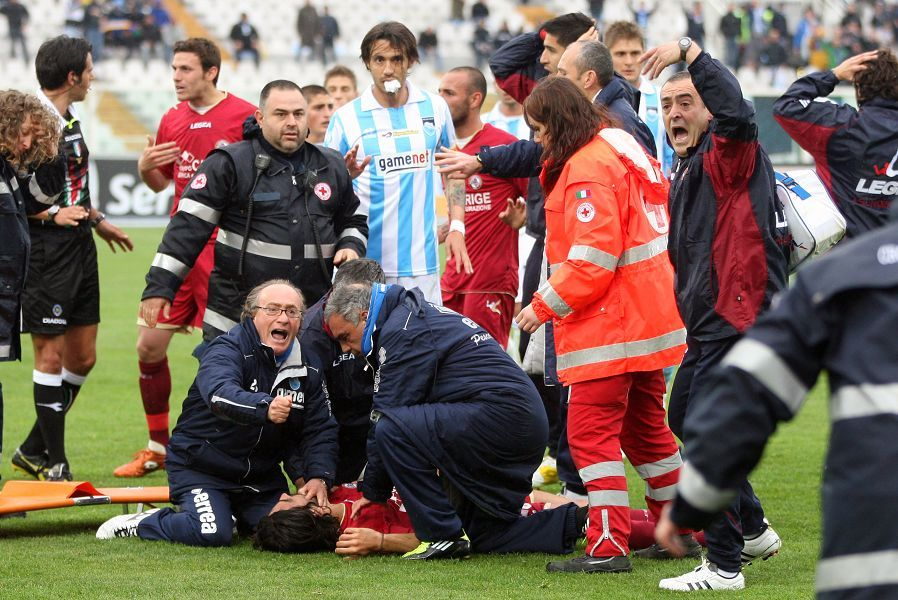10+: (1, 1, 898, 593)
down: (253, 466, 712, 586)
